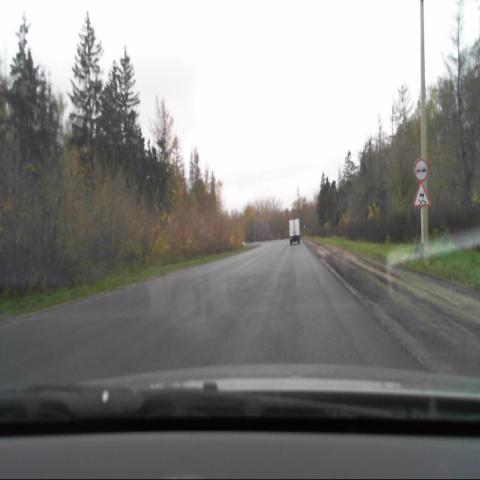1_15: (414, 184, 429, 207)
